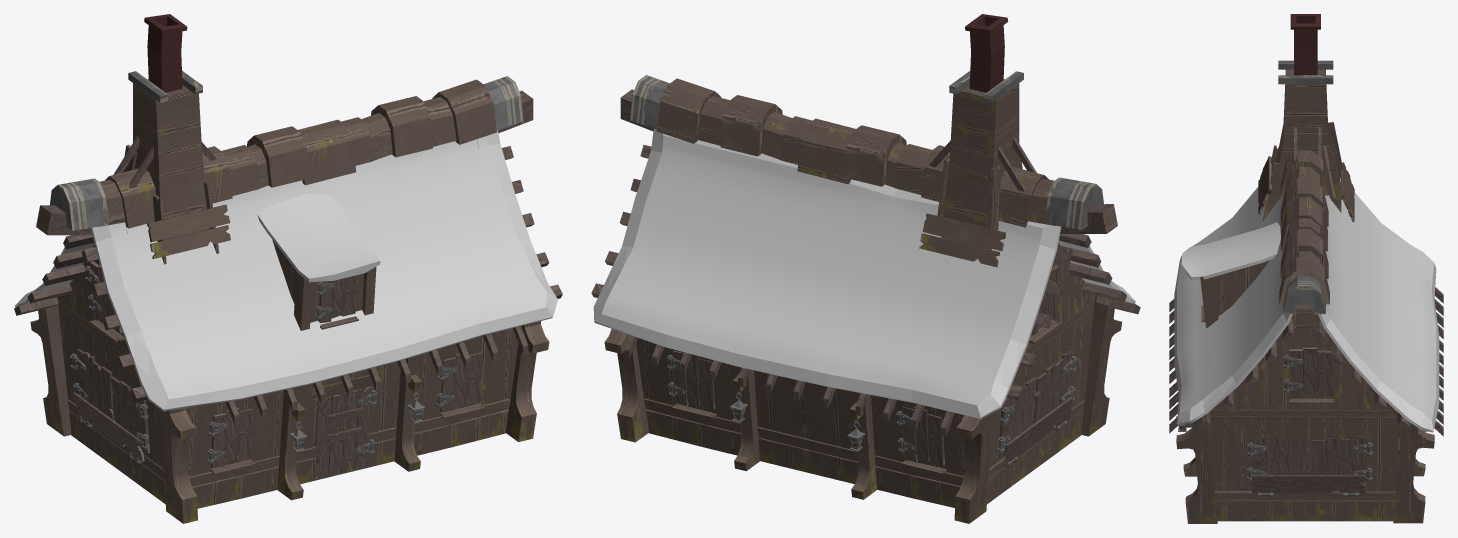
File: SM_House_Big02.fbx
The picture shows the model from 3 angles, left to right: view 1: azimuth 30°, elevation 25°; view 2: azimuth 150°, elevation 25°; view 3: azimuth 270°, elevation 25°; orthographic projection. The views are drawn at different scales.
Visible parts, largest first — view 1: Object368, Object360, Object365; view 2: Object368, Object360, Object365; view 3: Object368, Object360, Object365.
Part boxes in pixels (<box>): Object368: <box>14,70,562,523</box>; Object360: <box>14,130,558,411</box>; Object365: <box>144,14,187,92</box>; Object368: <box>591,71,1140,523</box>; Object360: <box>593,129,1135,418</box>; Object365: <box>965,14,1008,92</box>; Object368: <box>1169,60,1443,523</box>; Object360: <box>1174,177,1439,432</box>; Object365: <box>1290,14,1320,75</box>.
Bounding box in the file's own units: 931 × 809 × 529.
